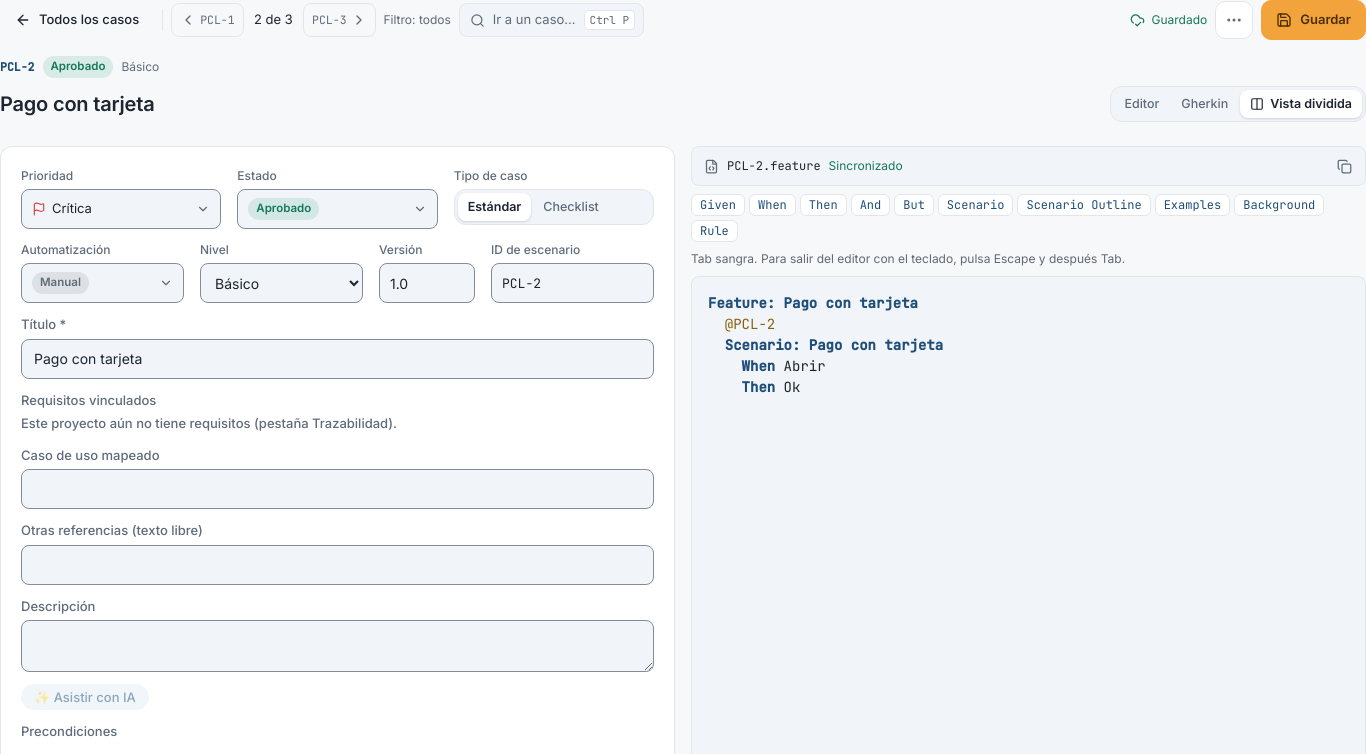
Casos · editor navigation (RED-V3) › asks before leaving with unsaved changes
The width and height of the screenshot is (1366, 754).
Type " editado" into the field labelled "Título *" at (338, 358), box [21,338,654,378]
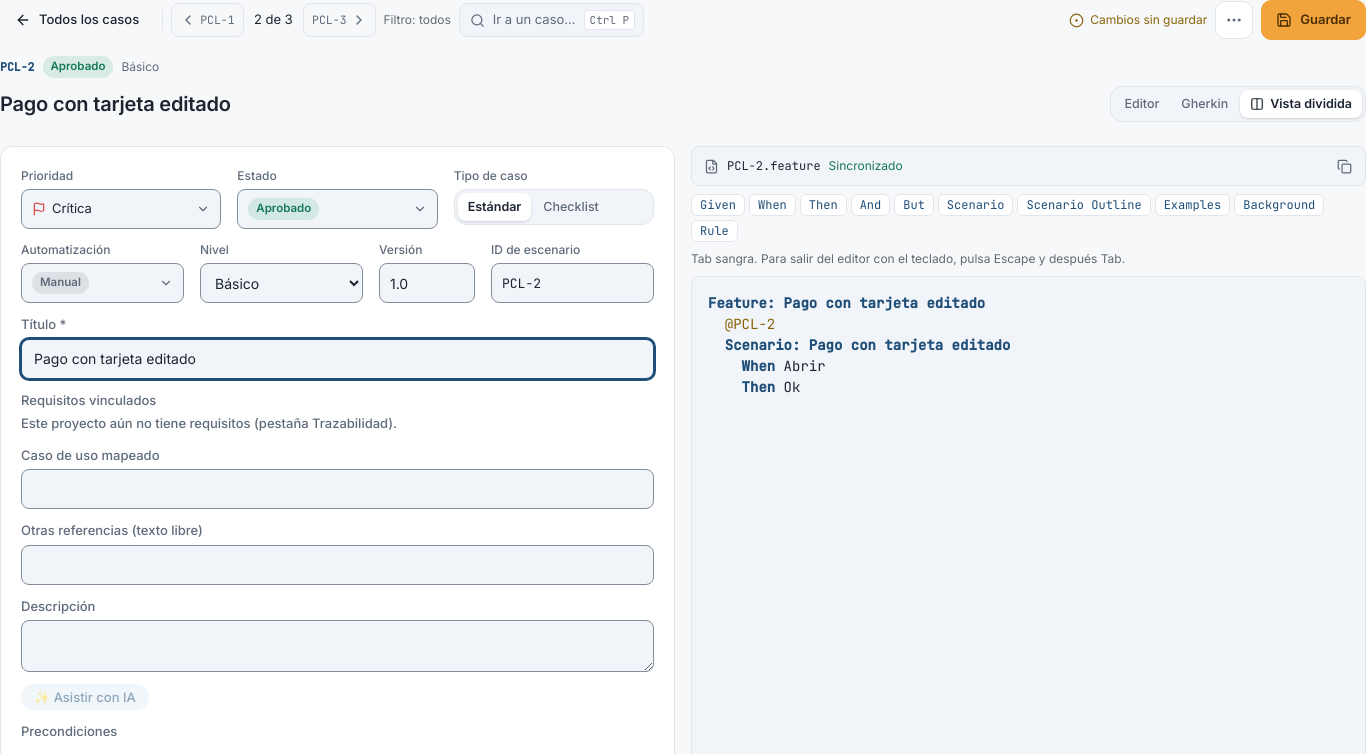
Result: the text "Cambios sin guardar" is shown at [1090,11,1207,29]
Click the button with aria-label "Caso anterior" at (207, 20), box [171,3,244,37]
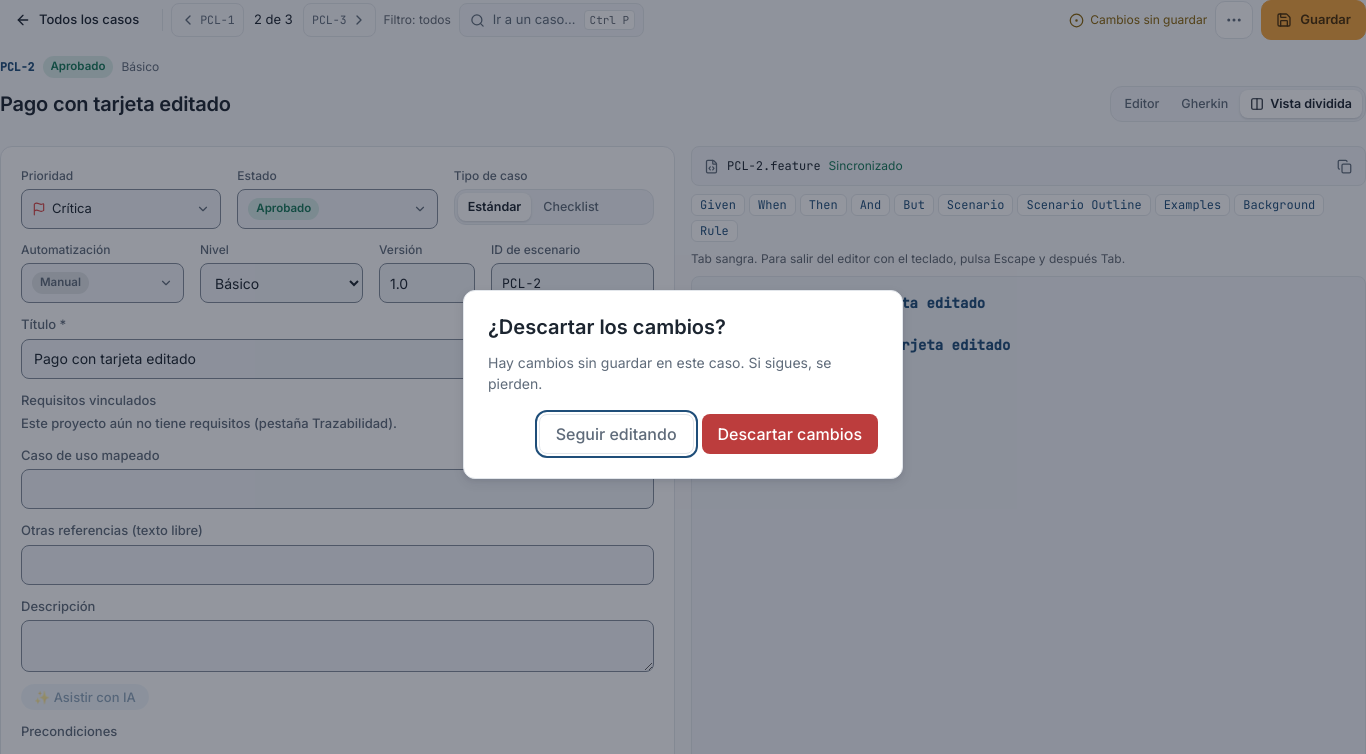
Click the button "Descartar cambios" at (790, 434), box [702,414,878,454]
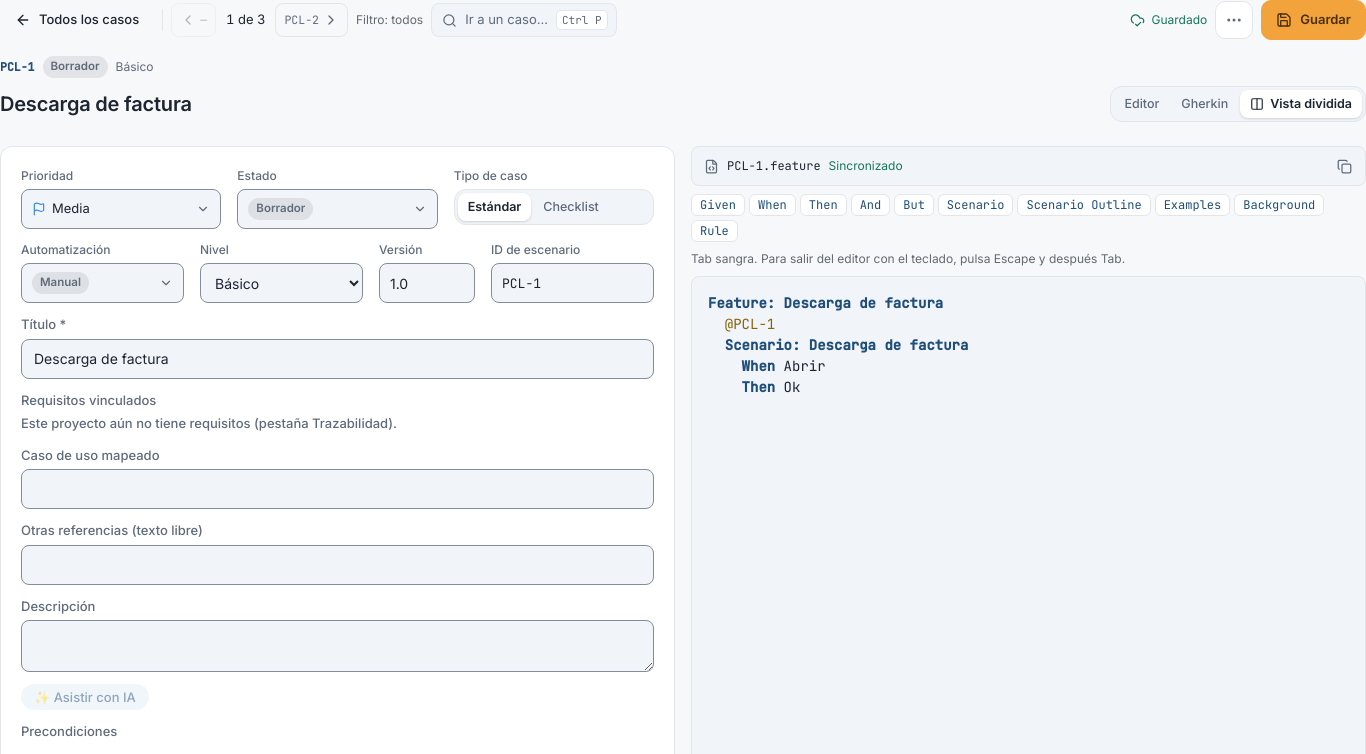
Result: the heading "Descarga de factura" is shown at [0,92,192,116]
